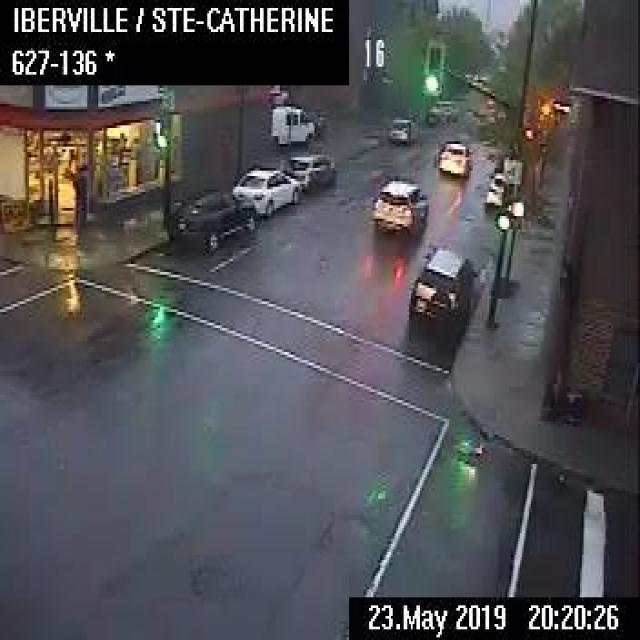pedestrian: (70, 161, 88, 232)
vehicle: (406, 243, 476, 331), (169, 188, 255, 248), (231, 164, 300, 218), (369, 176, 429, 237), (283, 151, 337, 190), (270, 102, 314, 146), (438, 136, 471, 173), (425, 96, 458, 125), (482, 168, 502, 211), (387, 114, 417, 142)
